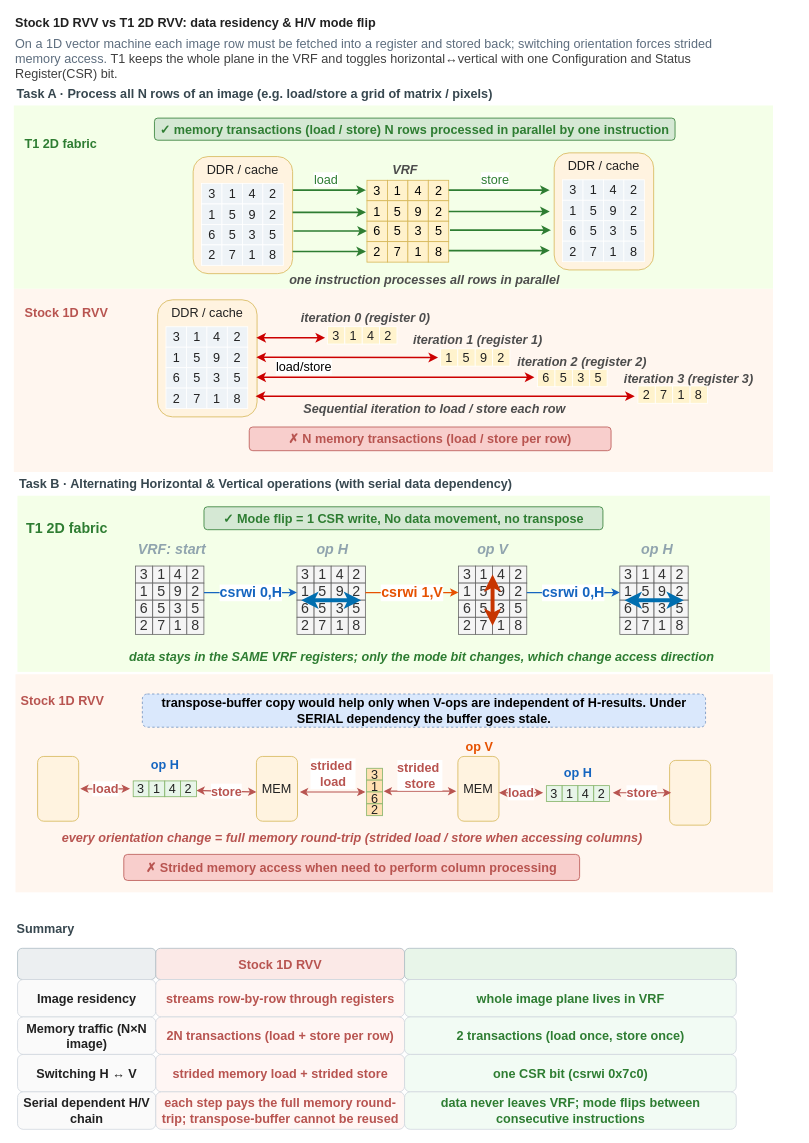
The diagram is 809 pixels wide and 1143 high, and some of its shapes have lost their labels. The box of each missing label's shape, as (x1, y1, x2, y2) in pixels:
Aspect: (17, 948, 156, 980)
MEM end: (669, 760, 711, 825)
MEM start: (37, 756, 79, 821)
T1 2-D fabric: (404, 948, 736, 980)
